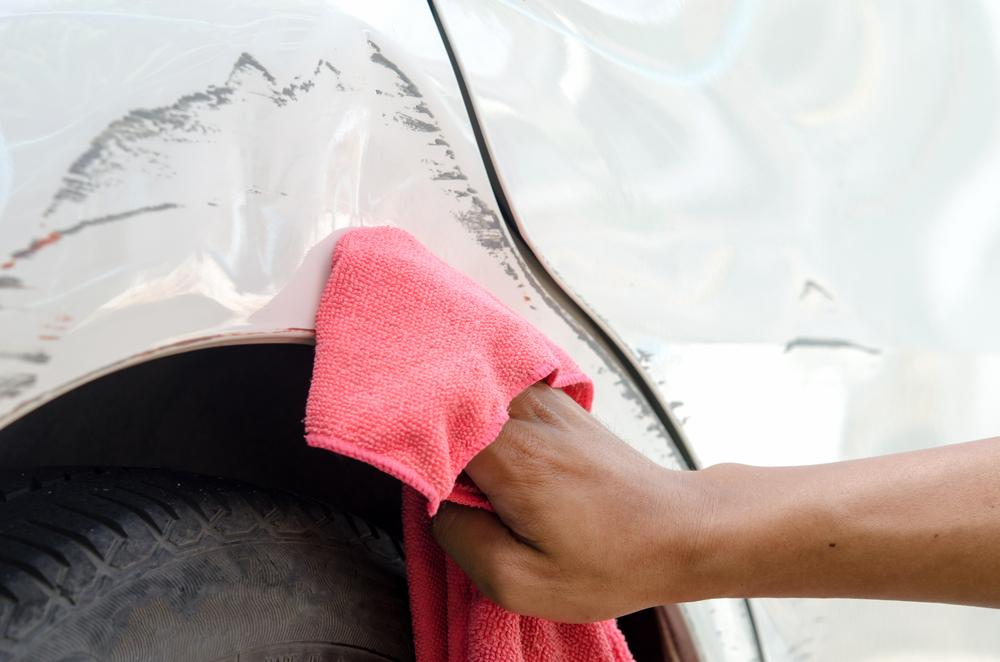dent: (45, 68, 423, 320)
scratch: (366, 37, 681, 458), (0, 232, 71, 430)
